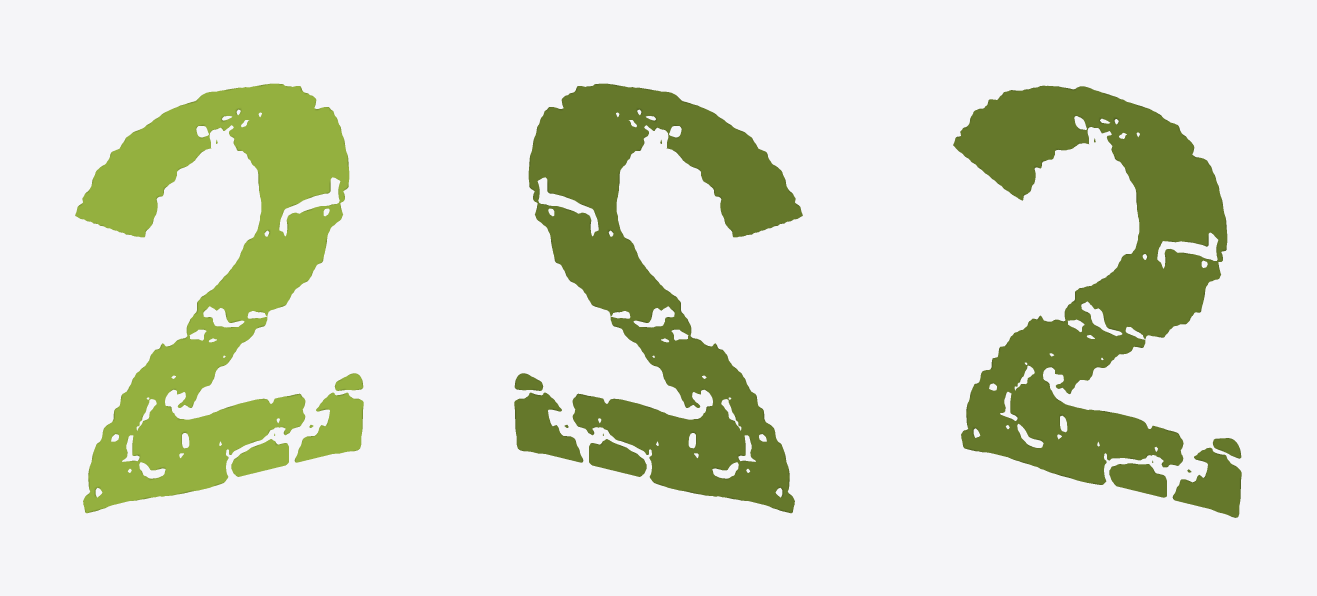
The model's file is floor_2_sign.FBX.
The picture shows the model from 3 angles, left to right: view 1: azimuth 30°, elevation 25°; view 2: azimuth 150°, elevation 25°; view 3: azimuth 330°, elevation 25°; orthographic projection.
Visible parts, largest first — view 1: floor_2_sign; view 2: floor_2_sign; view 3: floor_2_sign.
Part boxes in pixels (x1,y1,x2,y2): floor_2_sign: [75, 83, 363, 513]; floor_2_sign: [514, 83, 802, 513]; floor_2_sign: [953, 85, 1241, 517].
Bounding box in the file's own units: 41.08 × 44.76 × 1.3e-05.
